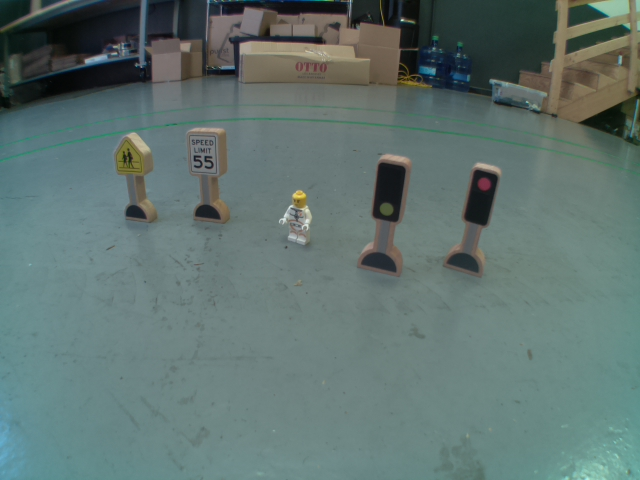Green Traffic Light: (371, 157, 405, 225)
Red Traffic Light: (463, 163, 501, 226)
Speed Limit 55: (189, 130, 221, 176)
YIELD: (114, 133, 147, 177)
person: (278, 187, 316, 249)
